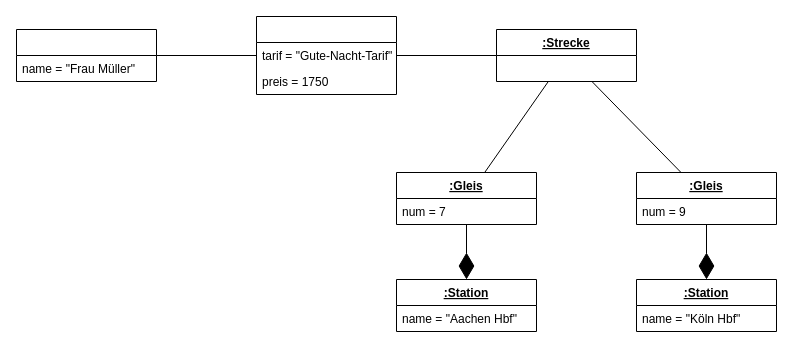
This 793x348 diagram has some shape labels left out. Each missing label, with the box of its shape:
guna:Fahrkarte: (256, 16, 396, 94)
mueller:Reisender/-in: (16, 28, 156, 82)
